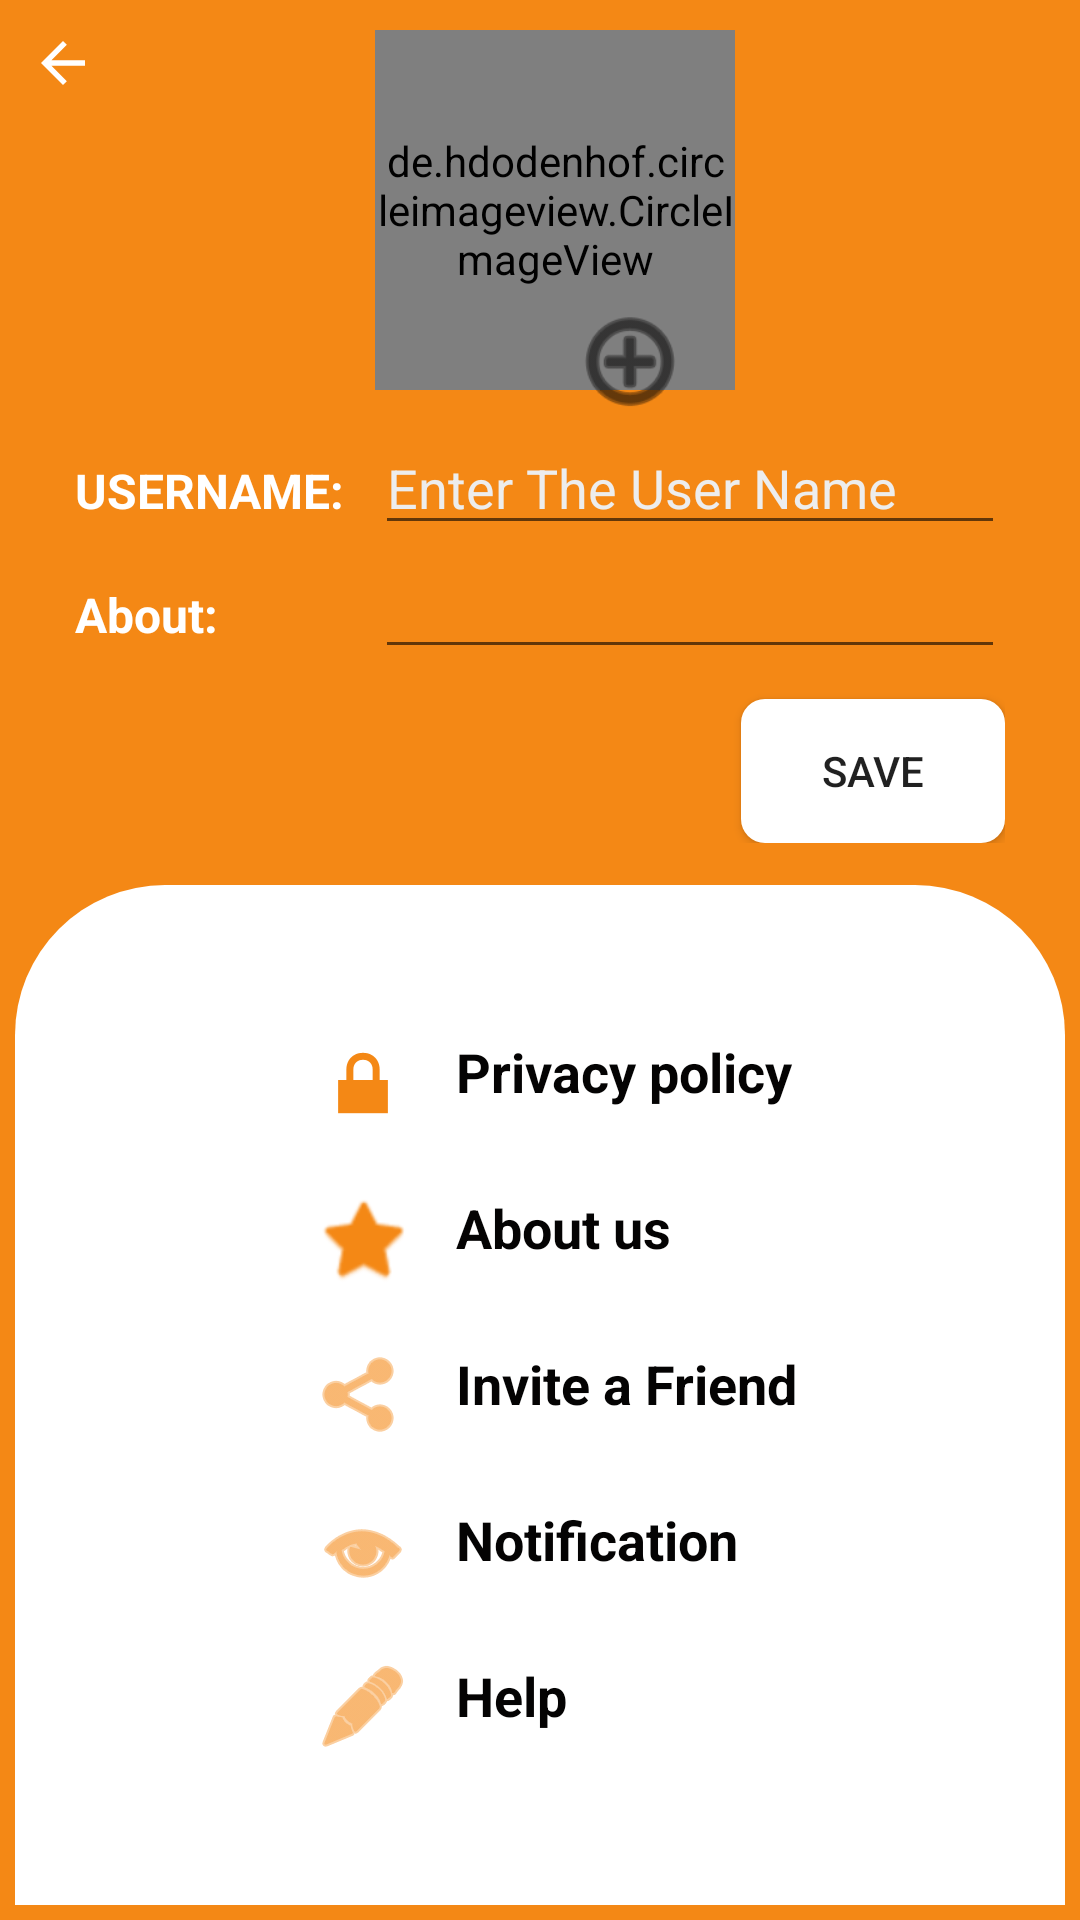

Icon click points for this 1080*1920 phone screenshot, format (x,y):
add: (630,369)
